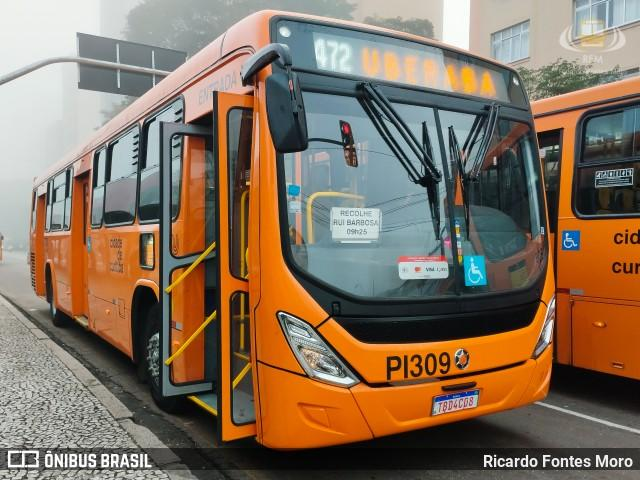UBERABA: (356, 41, 500, 103)
